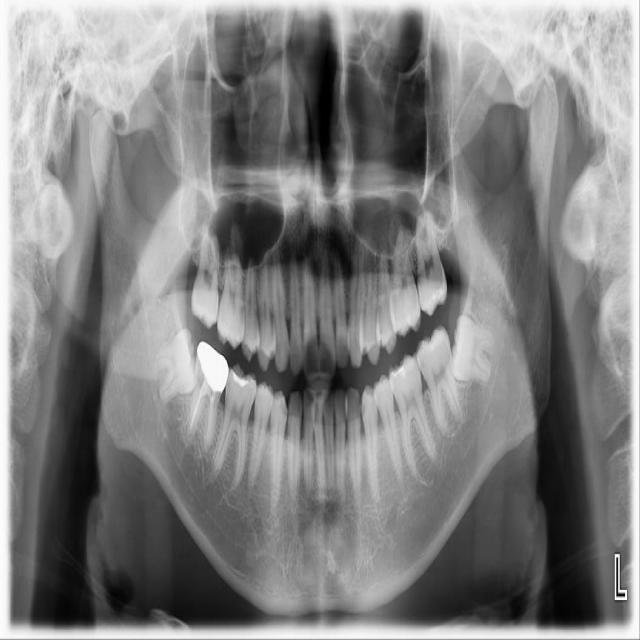Crown: (197, 341, 229, 393)
Filling: (230, 369, 251, 388), (393, 366, 406, 377)
Root Canal Treatment: (189, 378, 208, 428), (208, 394, 216, 442)
impacted tooth: (447, 315, 505, 384), (148, 329, 198, 403)
